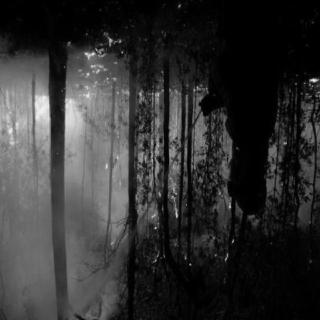Fire: (137, 79, 236, 278), (272, 74, 318, 156)
